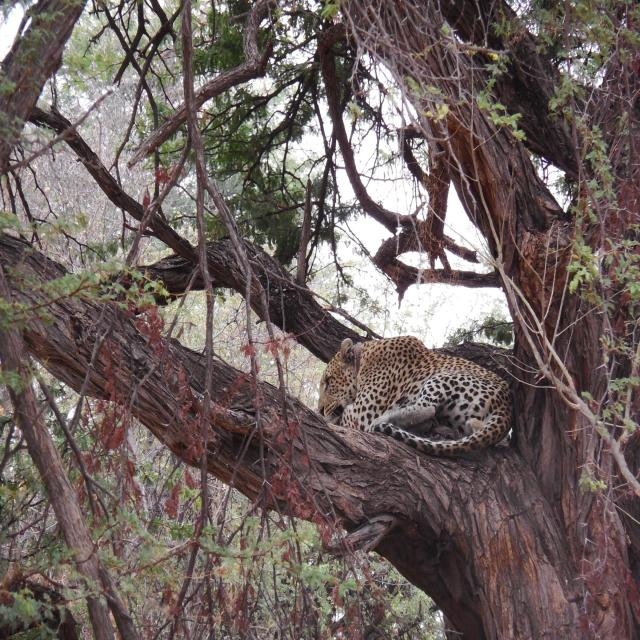Leopard: (312, 333, 522, 462)
